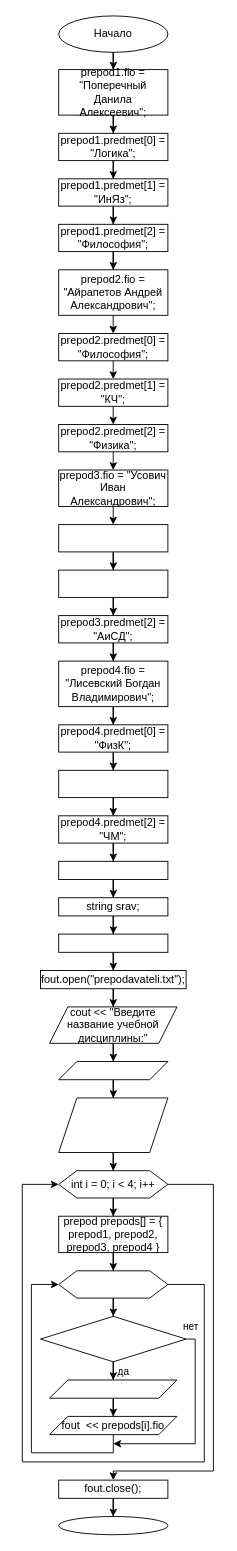
This 237x1551 diagram has some shape labels left out. The shapes that lost their labels are listed below. From the top down, each one's centre as x and y in pixels, then its label:
(113,538): prepod3.predmet[0] = "Логика";
(113,583): prepod3.predmet[1] = "КПО";
(113,783): prepod4.predmet[1] = "Логика";
(113,870): string predmet0;
(113,942): ofstream fout;
(113,1070): cin >> predmet0;
(113,1125): cout << "Данную дисциплину ведут следующие преподаватели:"
(113,1284): int j = 0; j < 3; j++
(113,1338): predmet0 == prepods[i].predmet[j]
(113,1388): cout << prepods[i].fio
(113,1525): Конец
